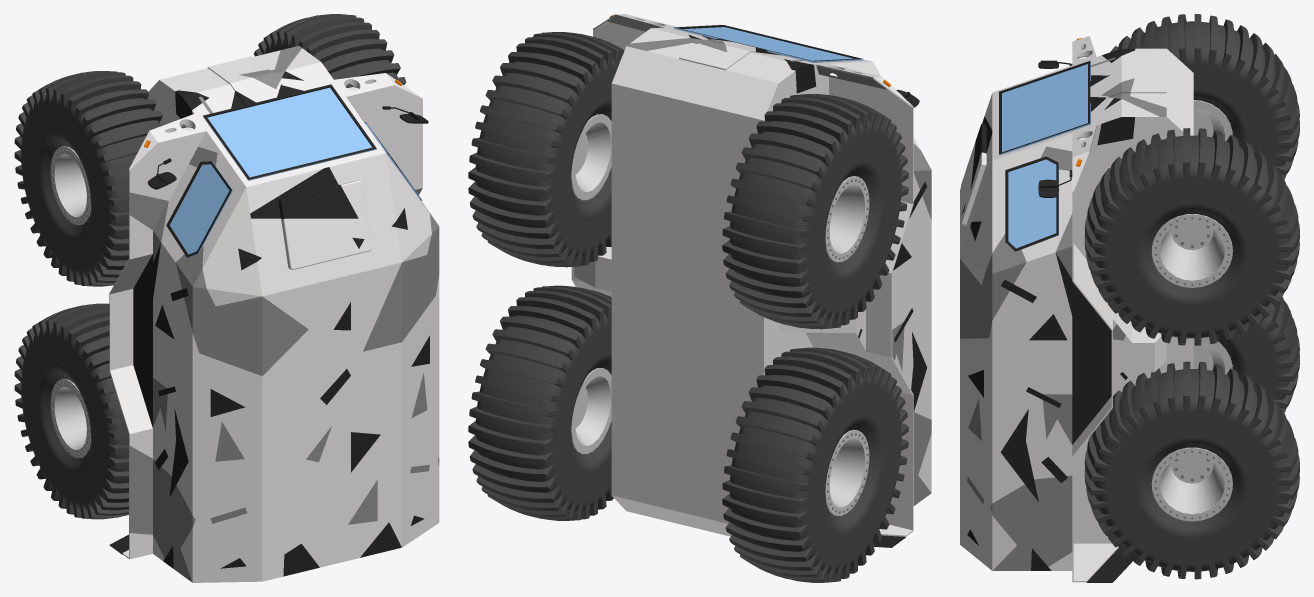
Rendered from sherp2.fbx.
3 views of the same model, side by side, from view 1: azimuth 30°, elevation 25°; view 2: azimuth 150°, elevation 25°; view 3: azimuth 270°, elevation 25° (orthographic). The views are drawn at different scales.
Visible parts, largest first — view 1: SHERP_COLOR-42|:|96367DFF15959F38578F85FDA0A4B91FDE0529C2, SHERP_COLOR-259|:|B8A4396250C5687B1D31E70758B30729E1AC4426 (×3), SHERP_COLOR-42|:|8D2972270AF900137B422467C6F9182DFA20AFC3; view 2: SHERP_COLOR-259|:|B8A4396250C5687B1D31E70758B30729E1AC4426 (×4), SHERP_COLOR-42|:|96367DFF15959F38578F85FDA0A4B91FDE0529C2; view 3: SHERP_COLOR-259|:|B8A4396250C5687B1D31E70758B30729E1AC4426 (×4), SHERP_COLOR-42|:|96367DFF15959F38578F85FDA0A4B91FDE0529C2, SHERP_COLOR-42|:|8D2972270AF900137B422467C6F9182DFA20AFC3.
Boxes of the visible parts, <box> form: SHERP_COLOR-42|:|96367DFF15959F38578F85FDA0A4B91FDE0529C2: <box>109,46,439,582</box>; SHERP_COLOR-259|:|B8A4396250C5687B1D31E70758B30729E1AC4426 (×3): <box>14,14,406,519</box>; SHERP_COLOR-42|:|8D2972270AF900137B422467C6F9182DFA20AFC3: <box>202,154,431,296</box>; SHERP_COLOR-259|:|B8A4396250C5687B1D31E70758B30729E1AC4426 (×4): <box>468,32,908,582</box>; SHERP_COLOR-42|:|96367DFF15959F38578F85FDA0A4B91FDE0529C2: <box>571,14,931,536</box>; SHERP_COLOR-259|:|B8A4396250C5687B1D31E70758B30729E1AC4426 (×4): <box>1084,14,1299,579</box>; SHERP_COLOR-42|:|96367DFF15959F38578F85FDA0A4B91FDE0529C2: <box>960,36,1193,582</box>; SHERP_COLOR-42|:|8D2972270AF900137B422467C6F9182DFA20AFC3: <box>960,162,992,270</box>.
Size of the model in its own units: 661 by 640 by 894.
